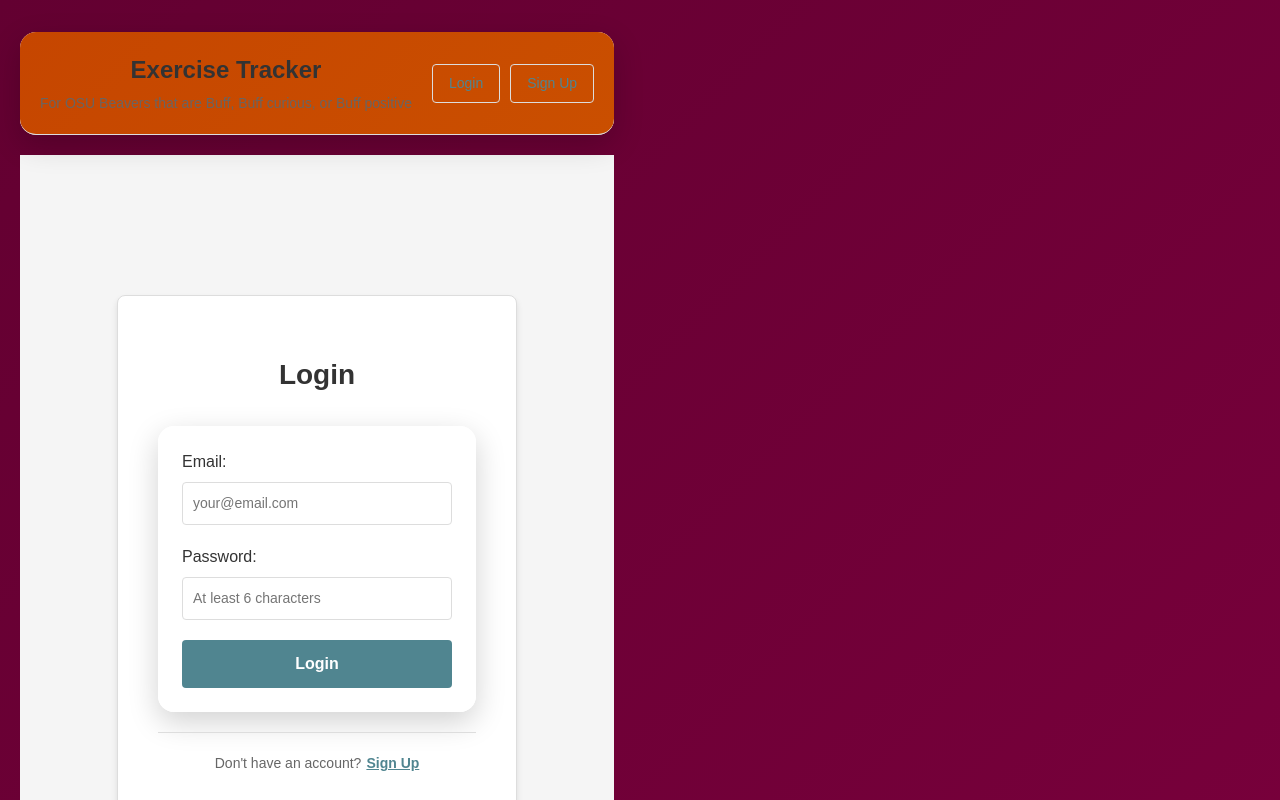
Test: Authentication UI Validation › Form Interaction › should toggle between login and signup forms
The image size is (1280, 800).
Expected: the heading "Login" is shown, [279,359,355,390]
Click the button "Sign Up": (393, 764) [366,753,419,774]
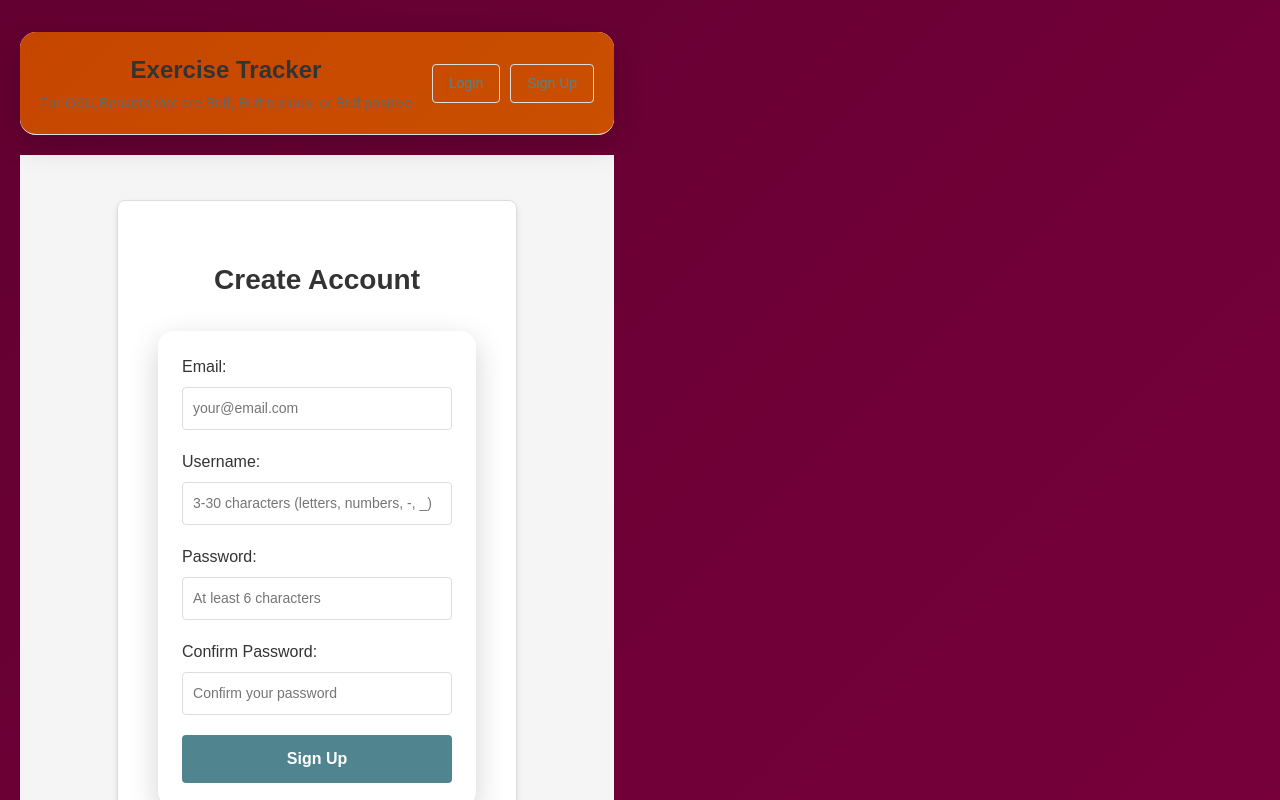
Expected: the heading "Create Account" is shown, [214,264,420,295]
Expected: the field with id "username" is shown, [182,482,452,525]
Scroll
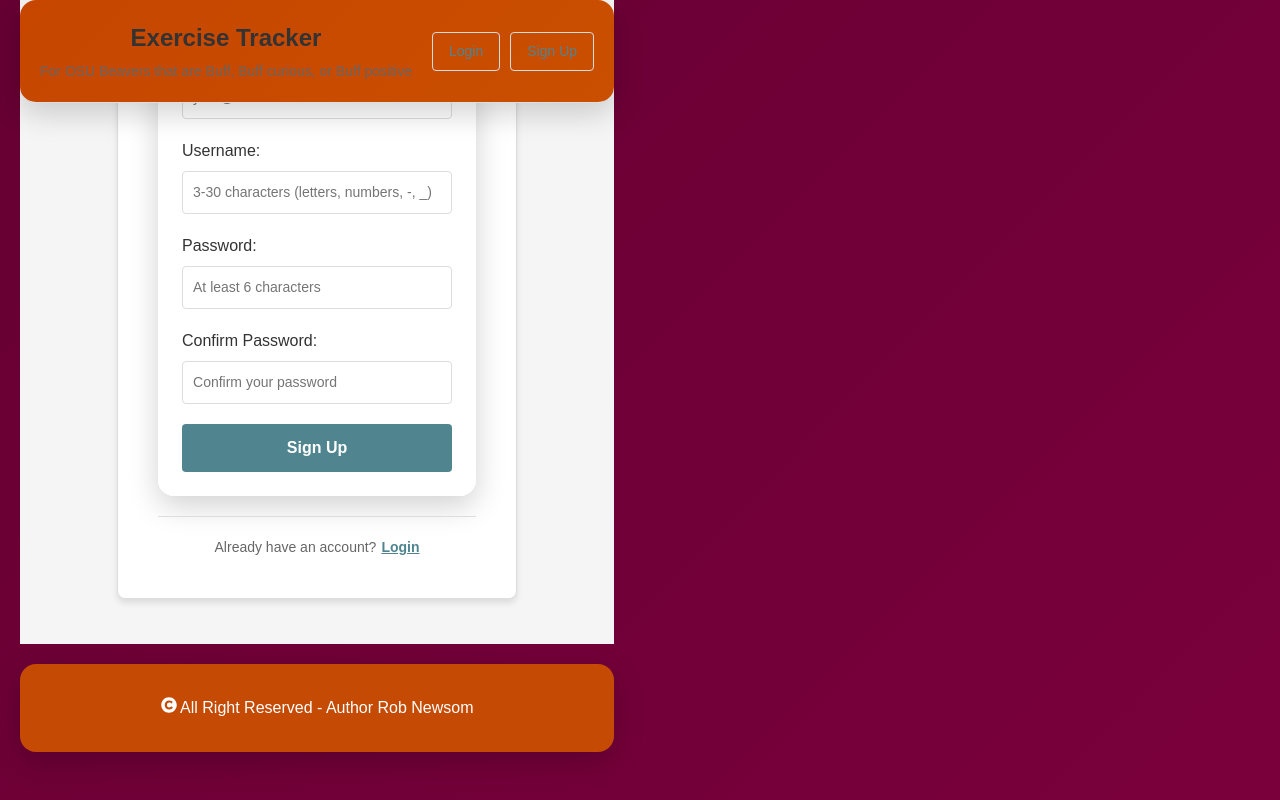
Click the button "Login": (400, 548) [381,537,419,558]
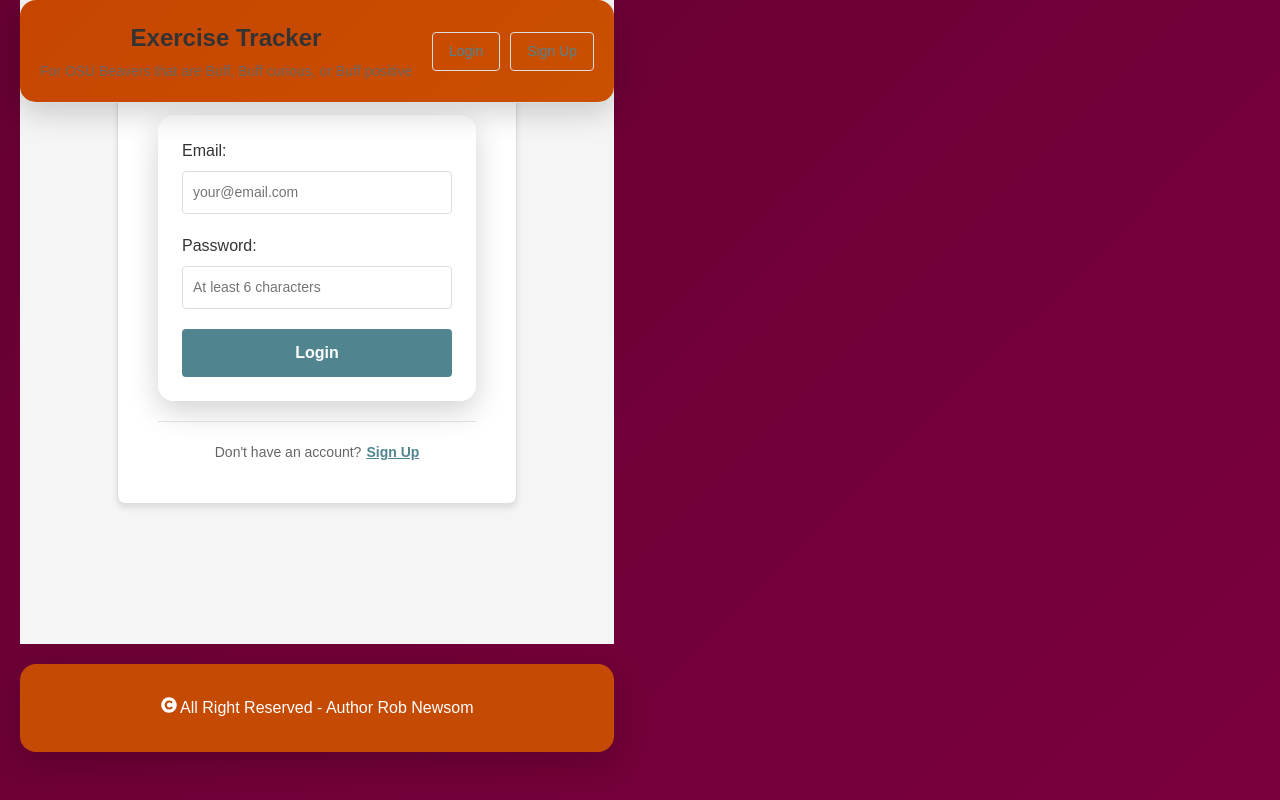
Expected: the label with id "username" is gone
